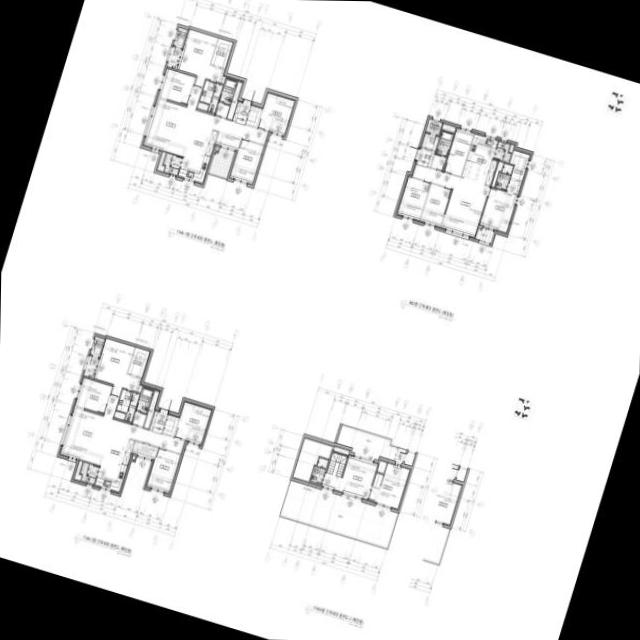background: (0, 0, 640, 640)
space_balconi: (208, 149, 233, 177), (79, 461, 98, 483), (162, 152, 181, 174), (493, 141, 510, 162), (83, 355, 97, 377), (166, 46, 180, 68), (474, 227, 493, 243)
space_bedroom: (176, 29, 224, 87), (93, 338, 140, 396), (479, 178, 520, 232), (367, 462, 409, 508), (173, 401, 211, 444), (257, 92, 294, 135), (146, 448, 180, 492), (229, 139, 263, 183), (397, 176, 430, 219), (419, 183, 450, 226), (74, 377, 111, 413), (158, 68, 194, 104)
space_dressroom: (127, 347, 149, 377), (210, 38, 232, 68), (509, 150, 529, 181)
space_front: (149, 410, 167, 433), (232, 101, 250, 124), (414, 147, 434, 167)
space_kitchen: (94, 433, 134, 491), (177, 124, 217, 182), (461, 134, 497, 185)
space_living_room: (143, 85, 268, 156), (60, 394, 184, 465), (411, 164, 488, 236), (321, 455, 376, 498)
space_other: (279, 480, 396, 546), (336, 426, 405, 462), (292, 437, 332, 482), (443, 128, 473, 176), (226, 81, 242, 119), (143, 390, 159, 428), (325, 451, 346, 477), (214, 130, 240, 150), (131, 440, 157, 459), (162, 413, 178, 435), (245, 105, 261, 126), (491, 161, 503, 186), (421, 133, 438, 150), (430, 154, 445, 170), (214, 102, 229, 117), (131, 411, 145, 426), (155, 151, 165, 172), (73, 460, 82, 480), (332, 445, 349, 454), (372, 472, 382, 487), (403, 452, 414, 465), (376, 459, 386, 473), (441, 123, 454, 132), (220, 75, 225, 83), (508, 144, 513, 152), (137, 384, 141, 392), (131, 455, 134, 459), (215, 146, 218, 150)
space_outdoor_room: (172, 27, 187, 47), (89, 336, 103, 356), (425, 118, 441, 134)
space_toilet: (196, 79, 222, 112), (113, 389, 138, 421), (494, 163, 512, 190), (309, 457, 327, 483), (135, 387, 153, 413), (218, 78, 236, 104), (435, 130, 452, 156)
